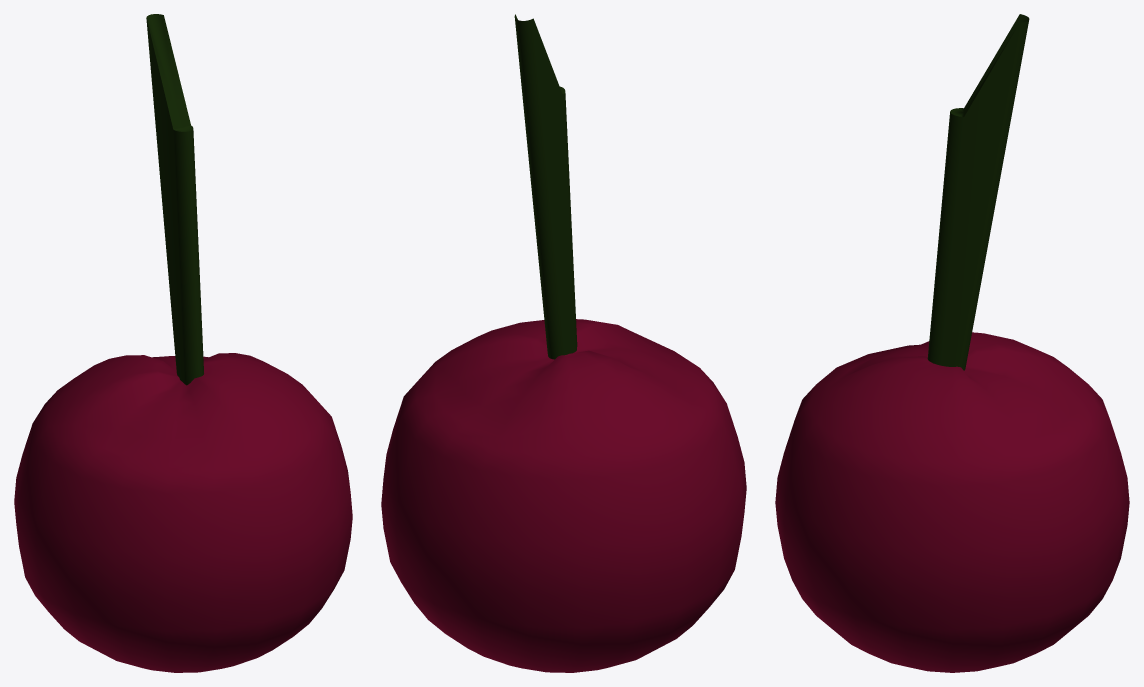
File: cherry.fbx
3 renders of one model, left to right at view 1: azimuth 30°, elevation 25°; view 2: azimuth 150°, elevation 25°; view 3: azimuth 270°, elevation 25°, orthographic. The views are drawn at different scales.
Visible parts, largest first — view 1: pSphere1, pCylinder1; view 2: pSphere1, pCylinder1; view 3: pSphere1, pCylinder1.
Part boxes in pixels (x1,y1,x2,y2): pSphere1: (14,353,352,672); pCylinder1: (146,14,203,385); pSphere1: (381,319,746,672); pCylinder1: (514,14,577,359); pSphere1: (775,332,1129,672); pCylinder1: (927,14,1029,370).
Bounding box in the file's own units: 1.78 × 3.54 × 1.78.
